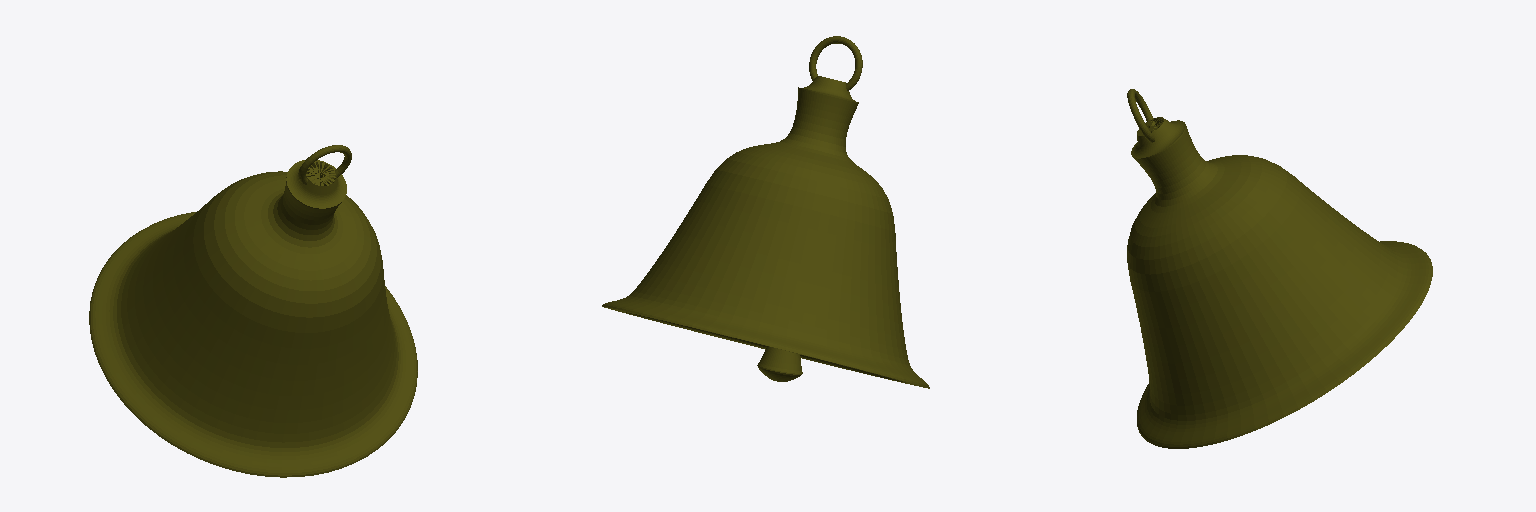
Rendered from bell.obj.
3 views of the same model, side by side, from view 1: azimuth 30°, elevation 25°; view 2: azimuth 150°, elevation 25°; view 3: azimuth 270°, elevation 25° (orthographic).
Parts seen in each view (by area): view 1: bell:Line001, bell:Line001_pTorus1; view 2: bell:Line001, bell:Line002, bell:Line001_pTorus1; view 3: bell:Line001, bell:Line001_pTorus1.
Part boxes in pixels (x1,y1,x2,y2): bell:Line001: (89,160,417,477); bell:Line001_pTorus1: (298,145,351,184); bell:Line001: (602,76,929,388); bell:Line002: (757,346,802,381); bell:Line001_pTorus1: (809,36,862,90); bell:Line001: (1127,117,1432,448); bell:Line001_pTorus1: (1127,89,1156,142).
Bounding box in the file's own units: 411 × 440 × 371.